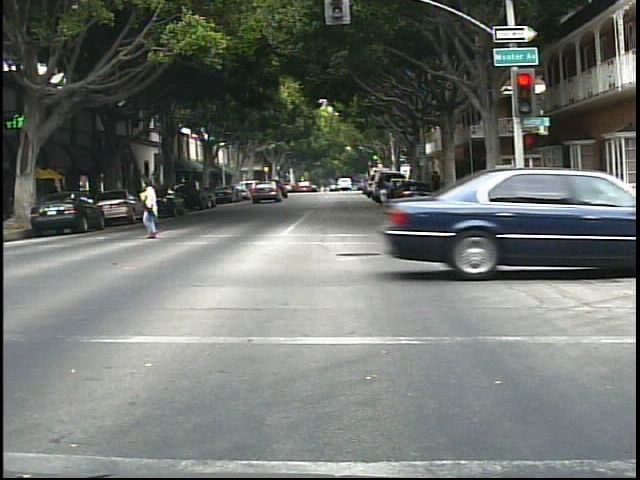person: (133, 173, 172, 242), (371, 172, 397, 217), (428, 165, 448, 203)
